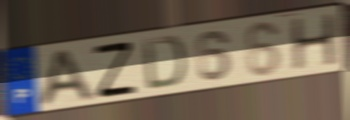6: (244, 19, 286, 78), (194, 29, 234, 82)
A: (36, 46, 98, 110)
D: (140, 34, 188, 92)
H: (289, 11, 340, 73)
Z: (91, 38, 138, 100)
